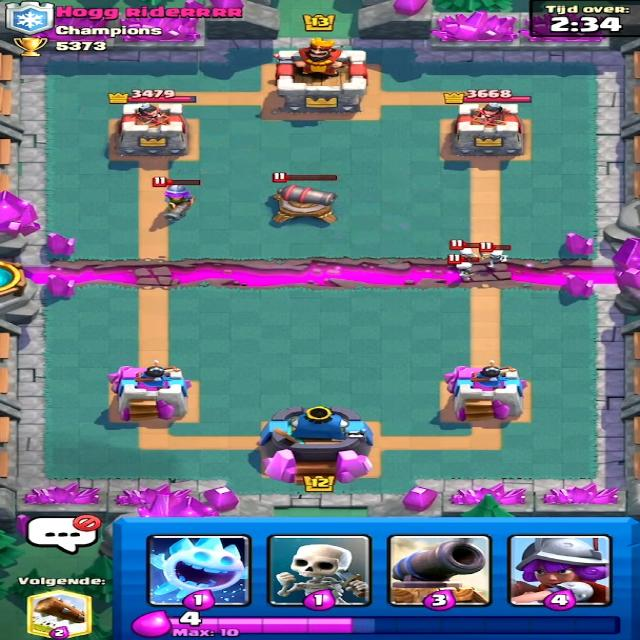Cannon_Card: (390, 535, 492, 605)
Enemy_Cannon_Troop: (258, 180, 343, 234)
Enemy_Musketeer_Troop: (151, 184, 202, 220)
Enemy_Skeleton_Troop: (485, 245, 511, 265), (452, 264, 476, 284), (453, 248, 479, 258)
Ice_Spirit_Card: (146, 533, 252, 608)
Musketeer_Card: (509, 534, 615, 604)
Skeleton_Card: (272, 533, 364, 607)
